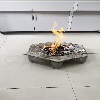fire: (43, 21, 76, 56)
